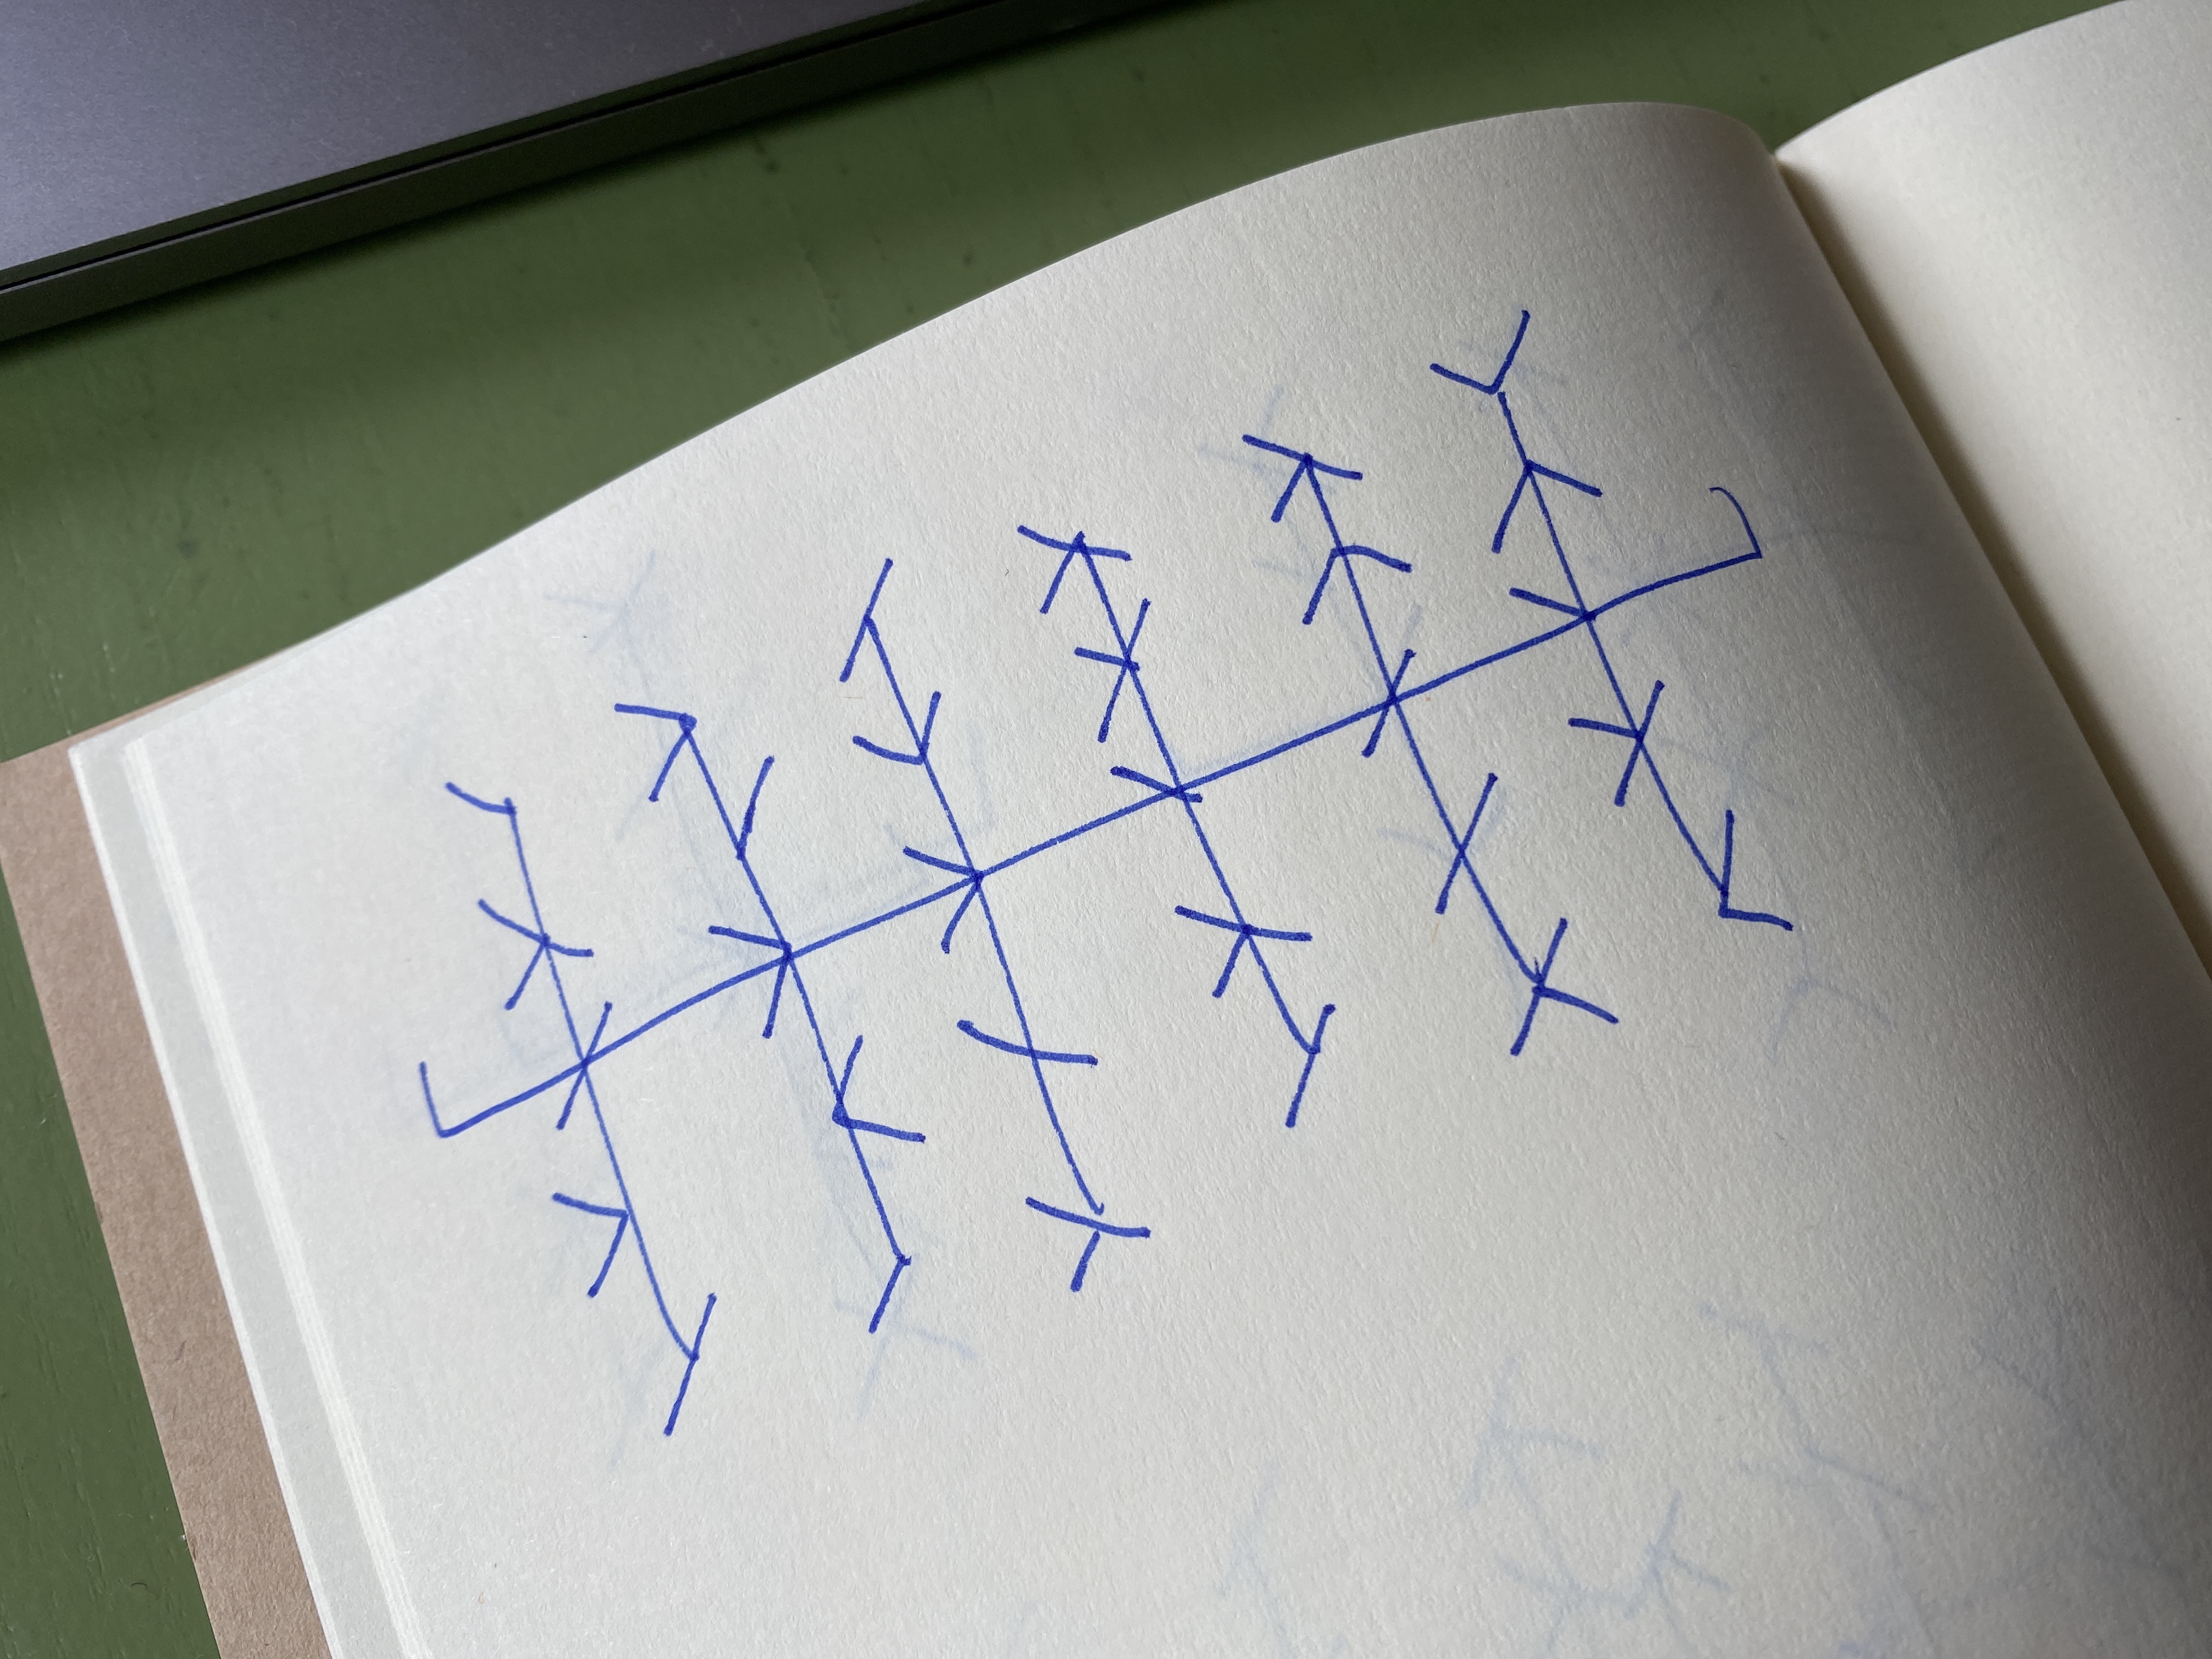Bar: (1242, 434, 1620, 1056), (838, 556, 1153, 1295), (1430, 308, 1794, 931), (613, 704, 927, 1333), (1014, 525, 1336, 1131), (444, 779, 718, 1438)
Barcode: (418, 308, 1794, 1439)
End: (1606, 488, 1763, 608)
Start: (416, 1060, 554, 1141)
